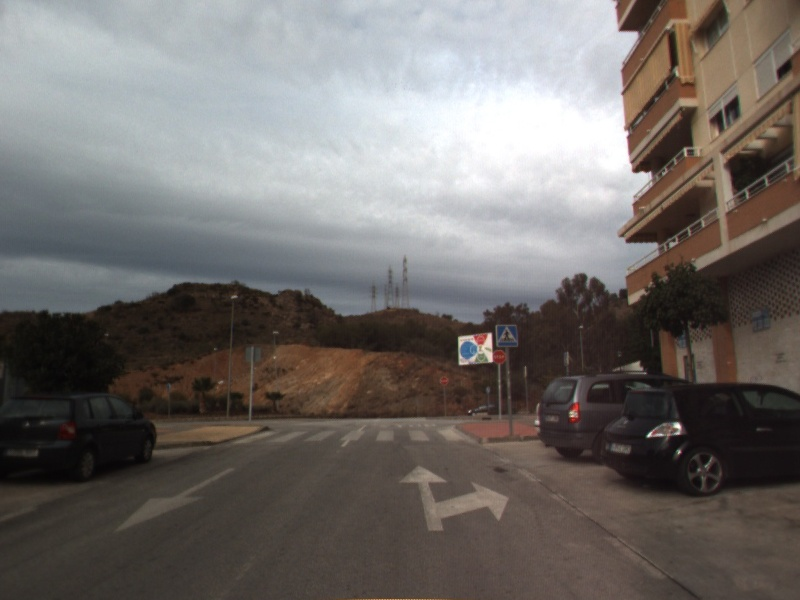STRAIGHT_RIGHT: (397, 463, 511, 533)
